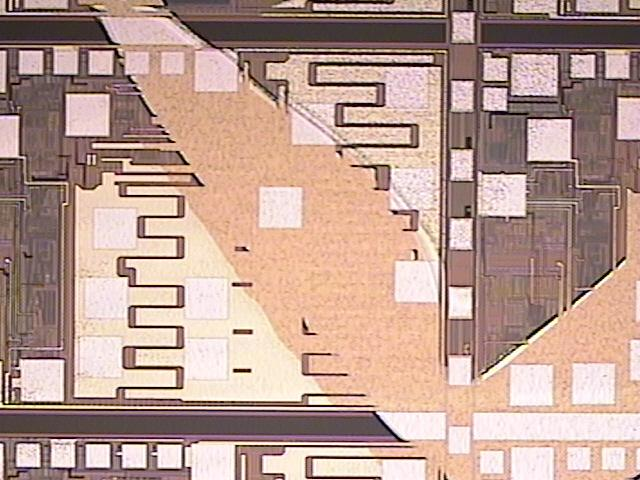COATING BAD: (70, 1, 640, 480)
